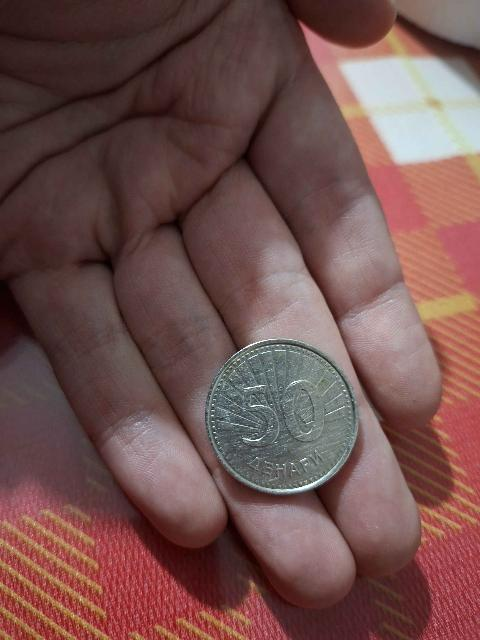coin: (206, 339, 358, 493)
